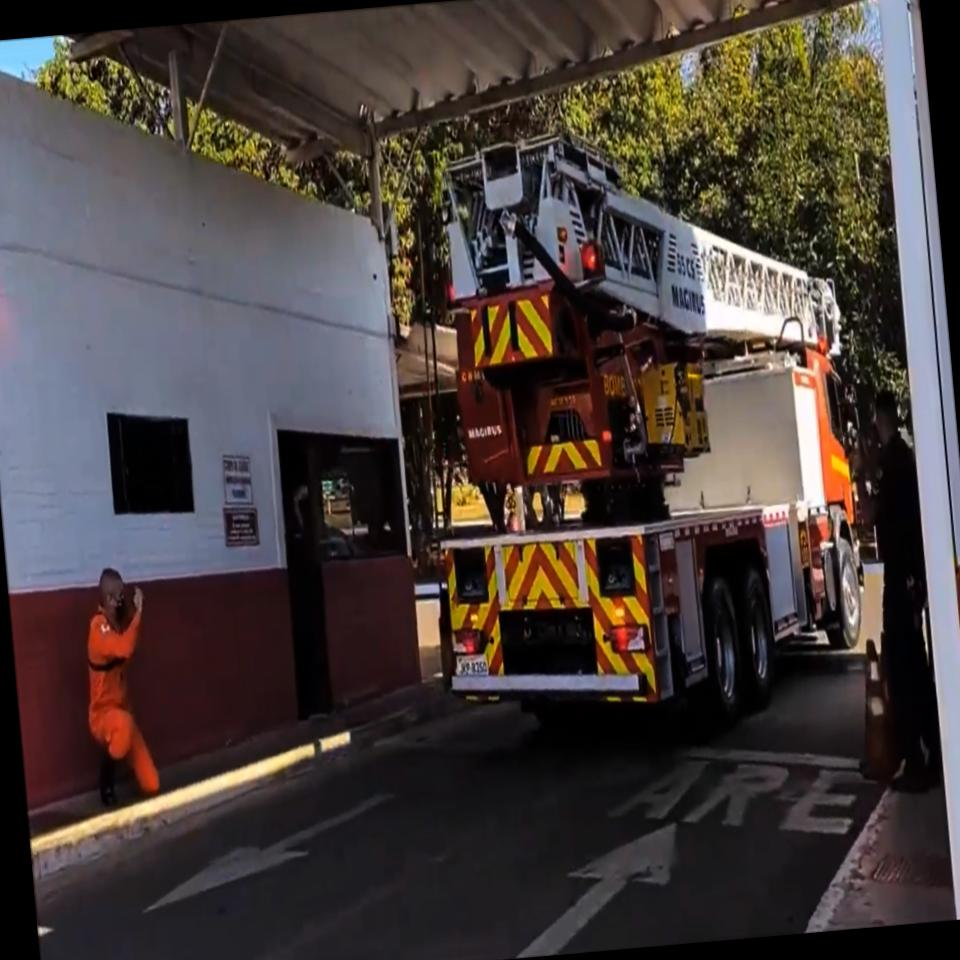viatura: (401, 101, 877, 758)
